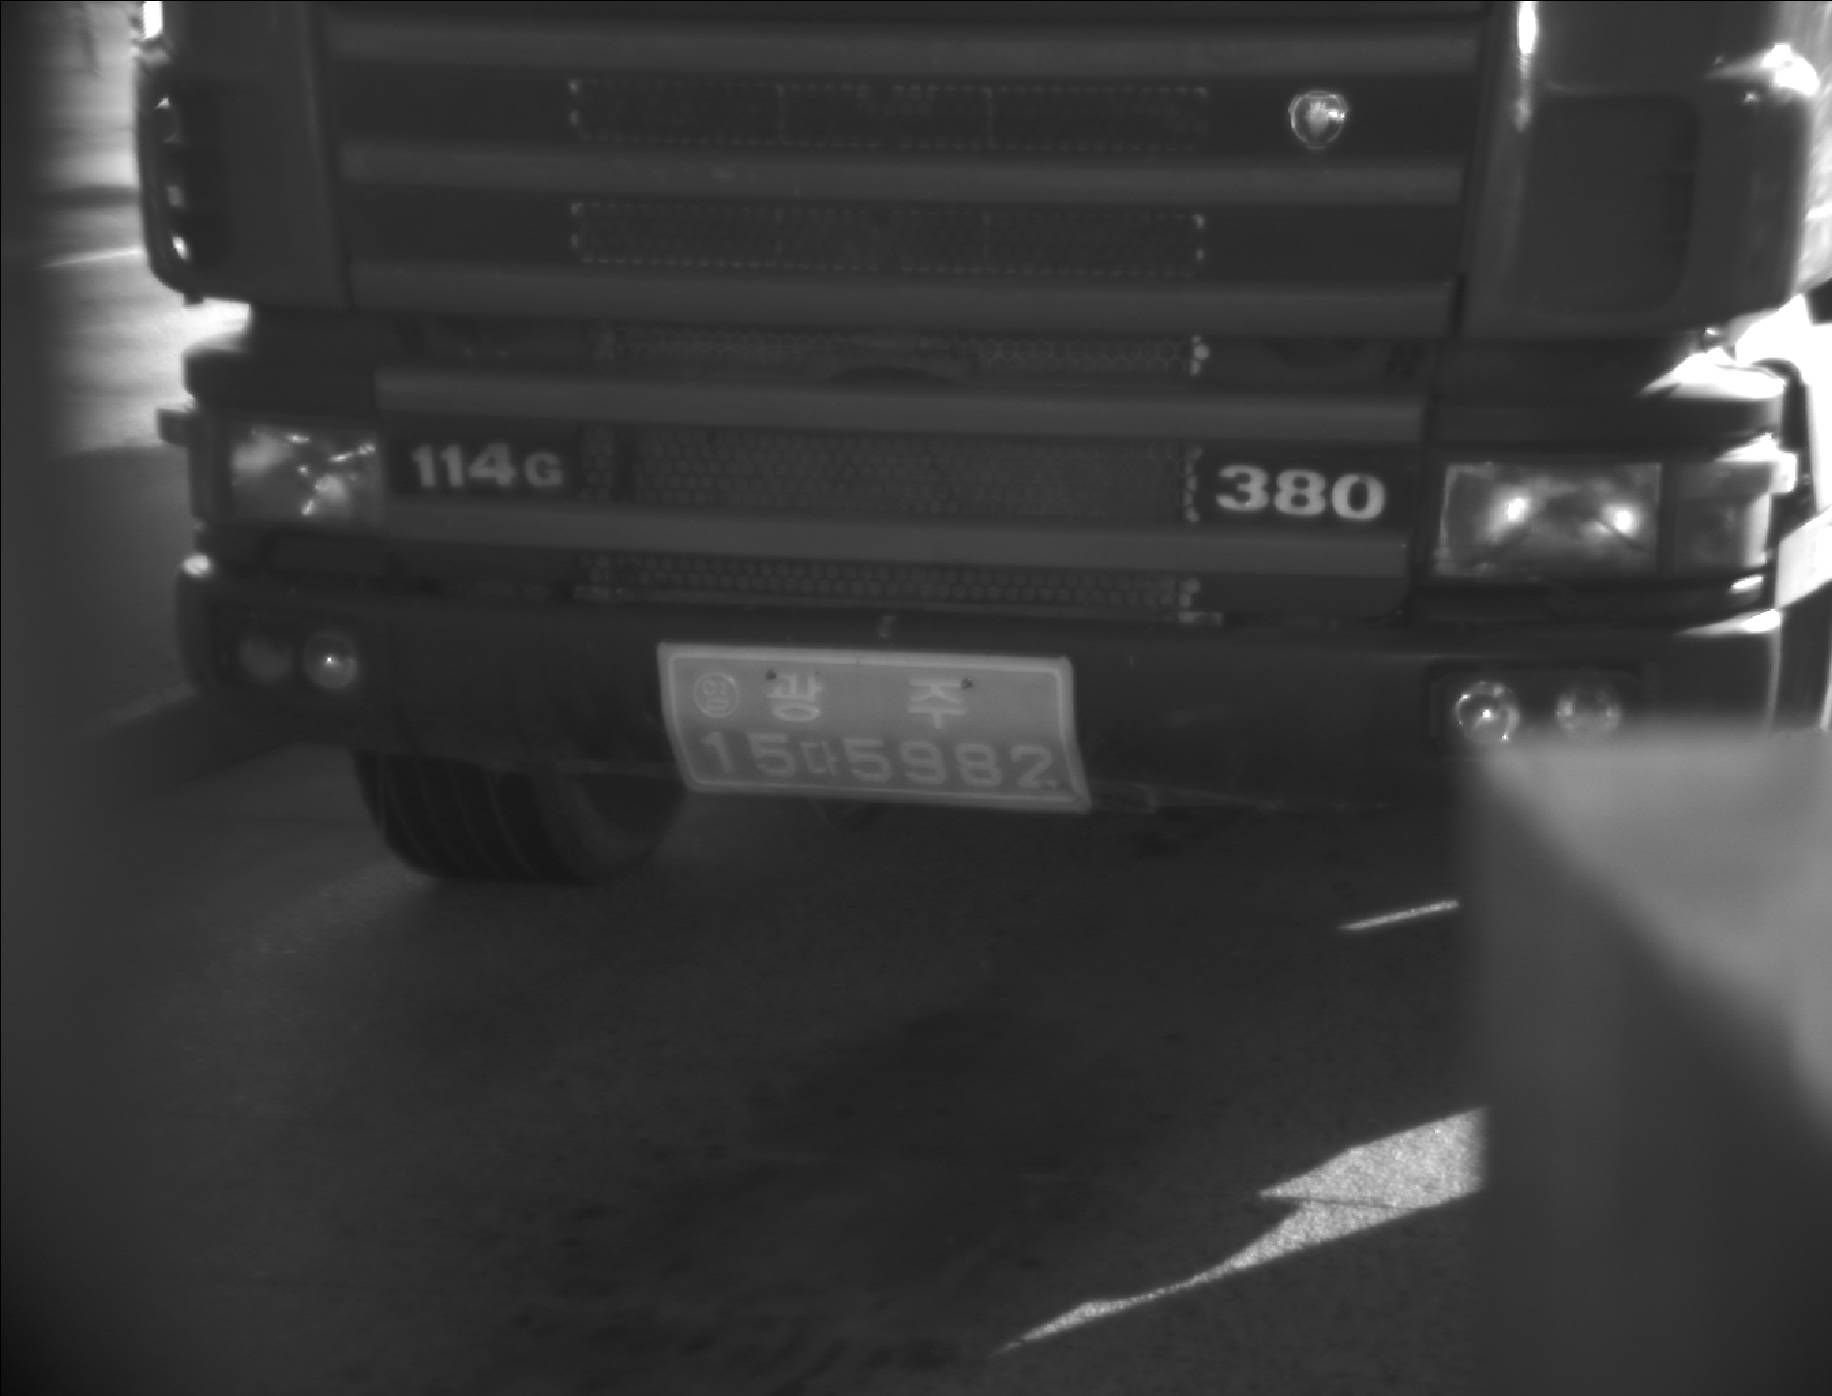car: (129, 1, 1832, 892)
plate: (648, 630, 1100, 822)
